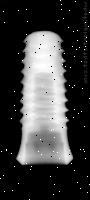Cowellmedi: (16, 30, 73, 165)
